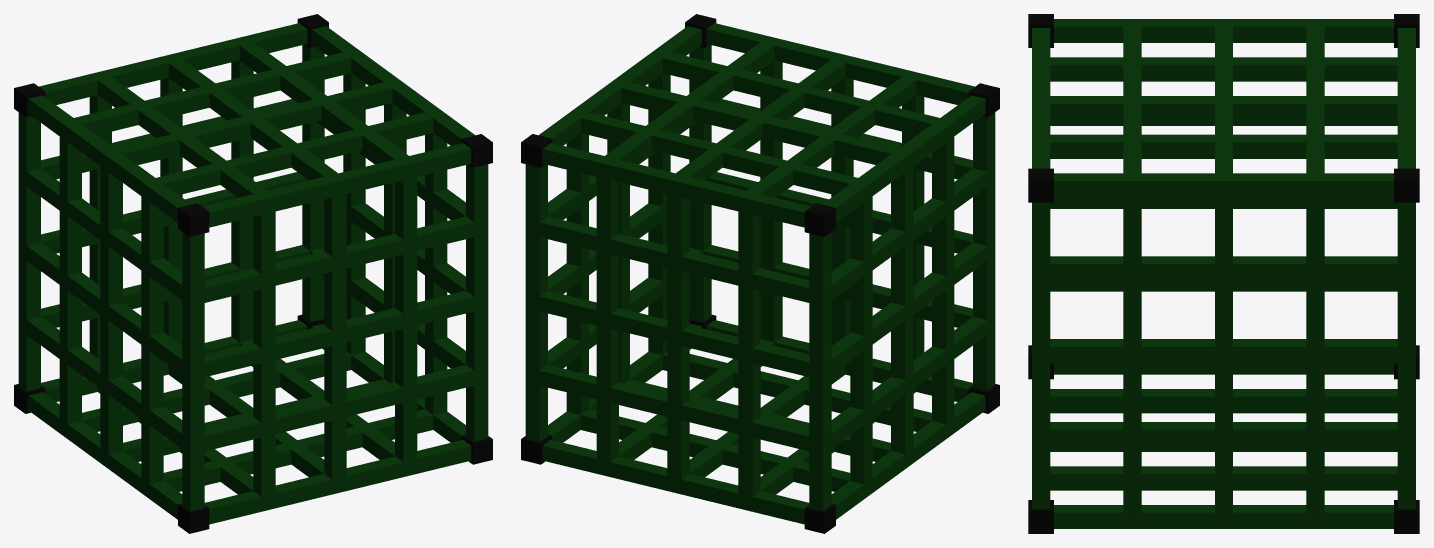
Rendered from Anger_Cage.fbx.
3 views of the same model, side by side, from view 1: azimuth 30°, elevation 25°; view 2: azimuth 150°, elevation 25°; view 3: azimuth 270°, elevation 25° (orthographic). The views are drawn at different scales.
Visible parts, largest first — view 1: Cube; view 2: Cube; view 3: Cube.
Boxes of the visible parts, box(x1,y1,x2,y2) form: Cube: box(14, 14, 492, 533); Cube: box(521, 14, 999, 533); Cube: box(1028, 14, 1419, 533).
Size of the model in its own units: 428 by 428 by 428.
